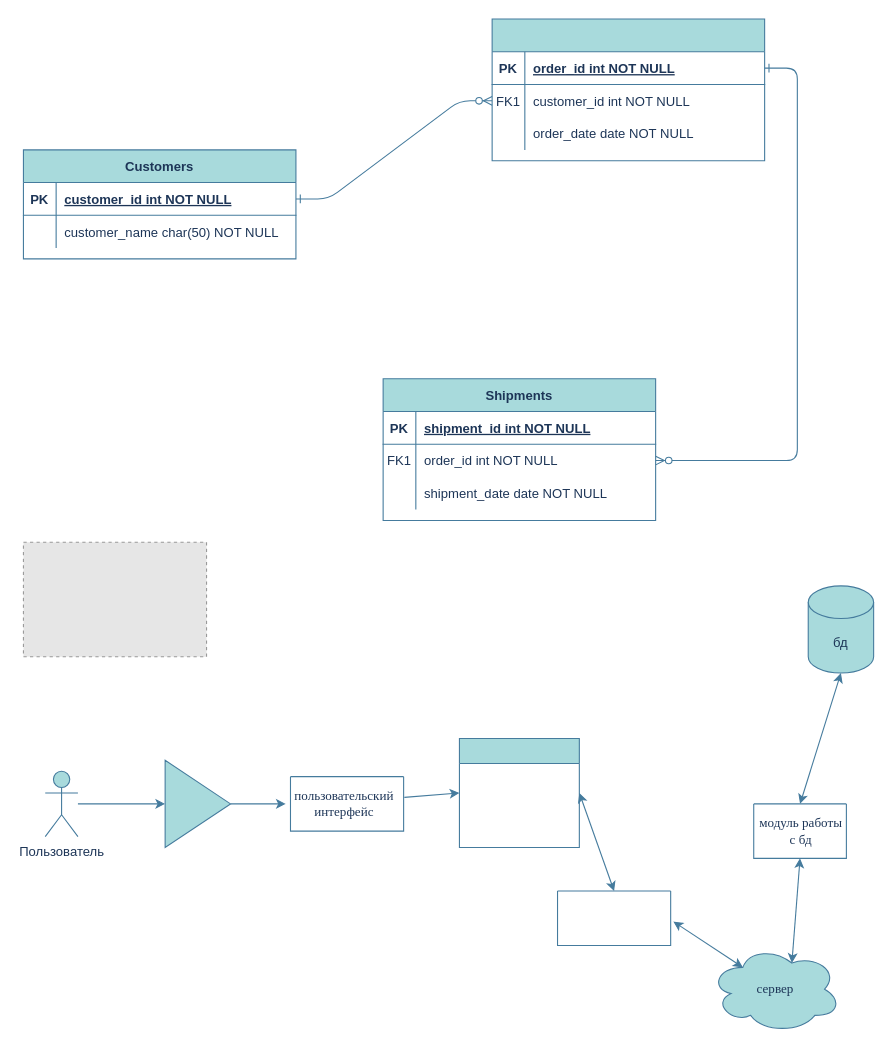
This 893x1052 diagram has some shape labels left out. Grey dashed boxes stand in for pictures. Each missing label, with the box of its shape:
Orders: (491, 18, 765, 161)
модуль соединения с сервером: (556, 890, 671, 946)
Сервис: (458, 737, 579, 847)
ТГ: (164, 759, 231, 847)
